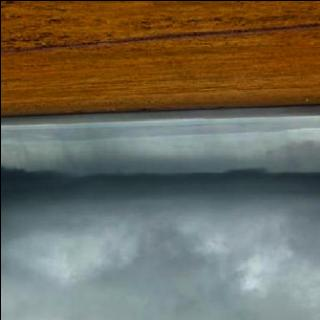Nimbostratus: (0, 129, 320, 320)
